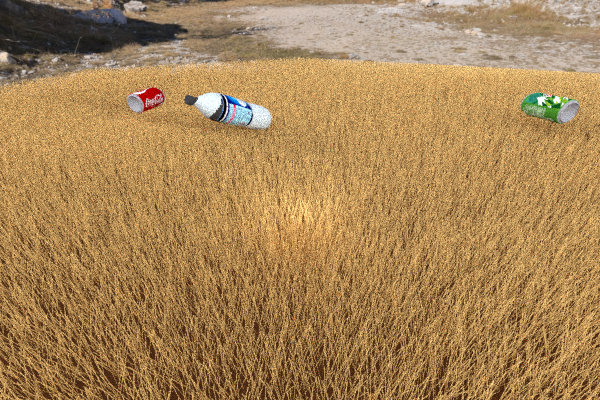Plastic Bottle: (184, 92, 272, 130), (520, 92, 579, 124), (126, 87, 165, 113)
